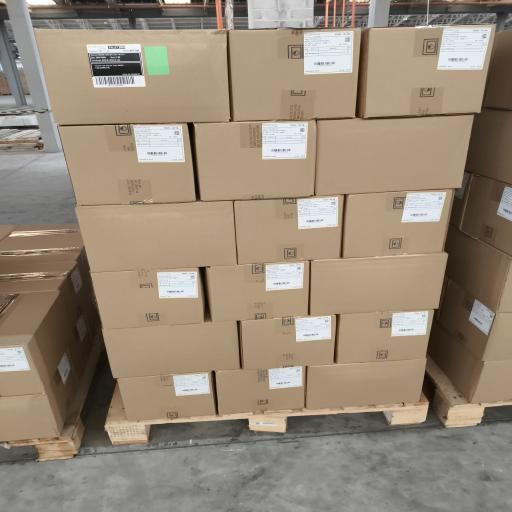pallet: (105, 385, 428, 444), (9, 330, 104, 461), (426, 356, 511, 427)
